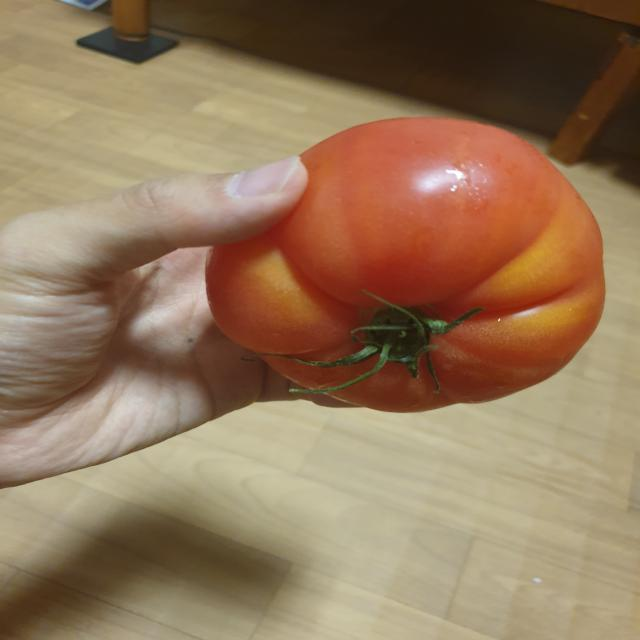tomato: (203, 118, 605, 415)
